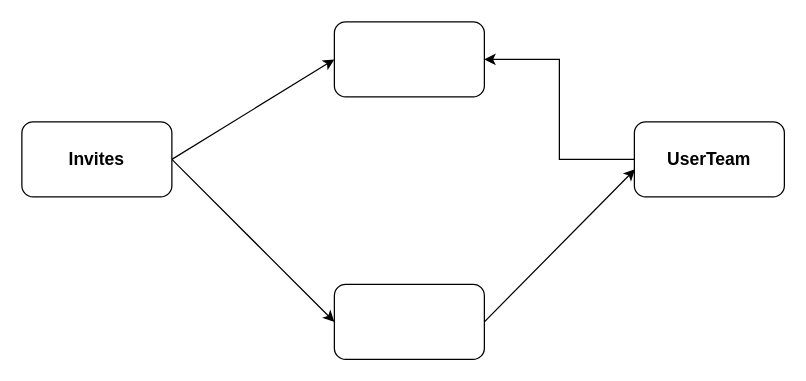
This 806x381 diagram has some shape labels left out. The shapes that lost their labels are listed below. From the top down, each one's centre as x and y in pixels, then its label:
At (408,59): "User".
At (408,321): "Team".
